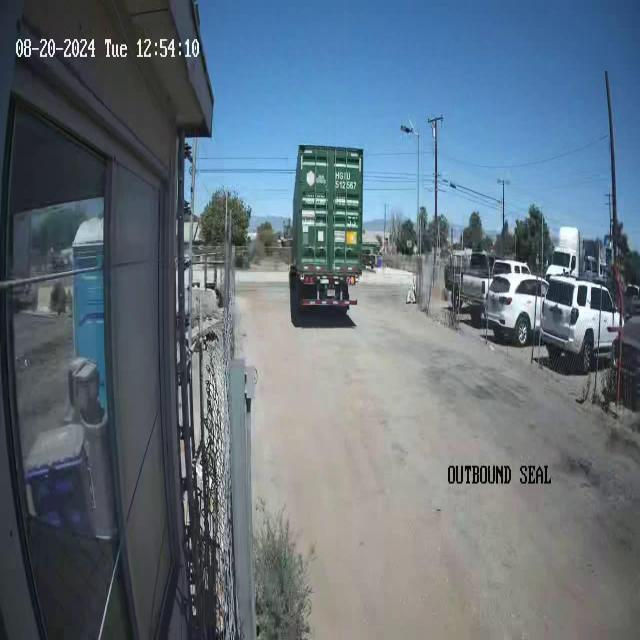TRUCK_CONTAINER: (288, 143, 364, 307)
